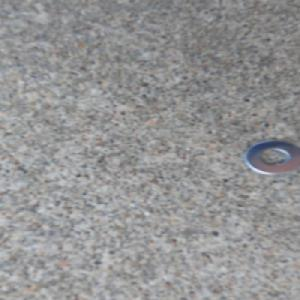Washer: (240, 138, 300, 177)
